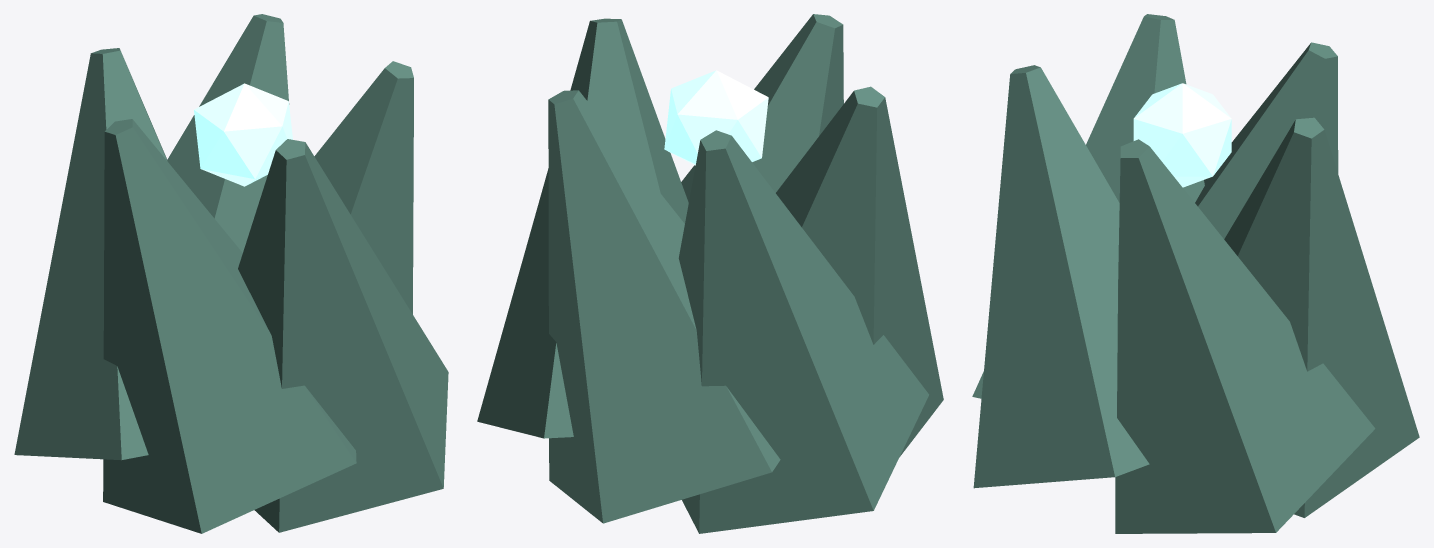
File: prop_frost_herb.glb
3 views of the same model, side by side, from view 1: azimuth 30°, elevation 25°; view 2: azimuth 150°, elevation 25°; view 3: azimuth 270°, elevation 25° (orthographic). The views are drawn at different scales.
Visible parts, largest first — view 1: PROP_FrostHerb; view 2: PROP_FrostHerb; view 3: PROP_FrostHerb.
Boxes of the visible parts, x1=… form: PROP_FrostHerb: x1=14, y1=14, x2=448, y2=533; PROP_FrostHerb: x1=477, y1=14, x2=943, y2=533; PROP_FrostHerb: x1=972, y1=14, x2=1419, y2=533.
Size of the model in its own units: 0.5357 by 0.5174 by 0.5425.
